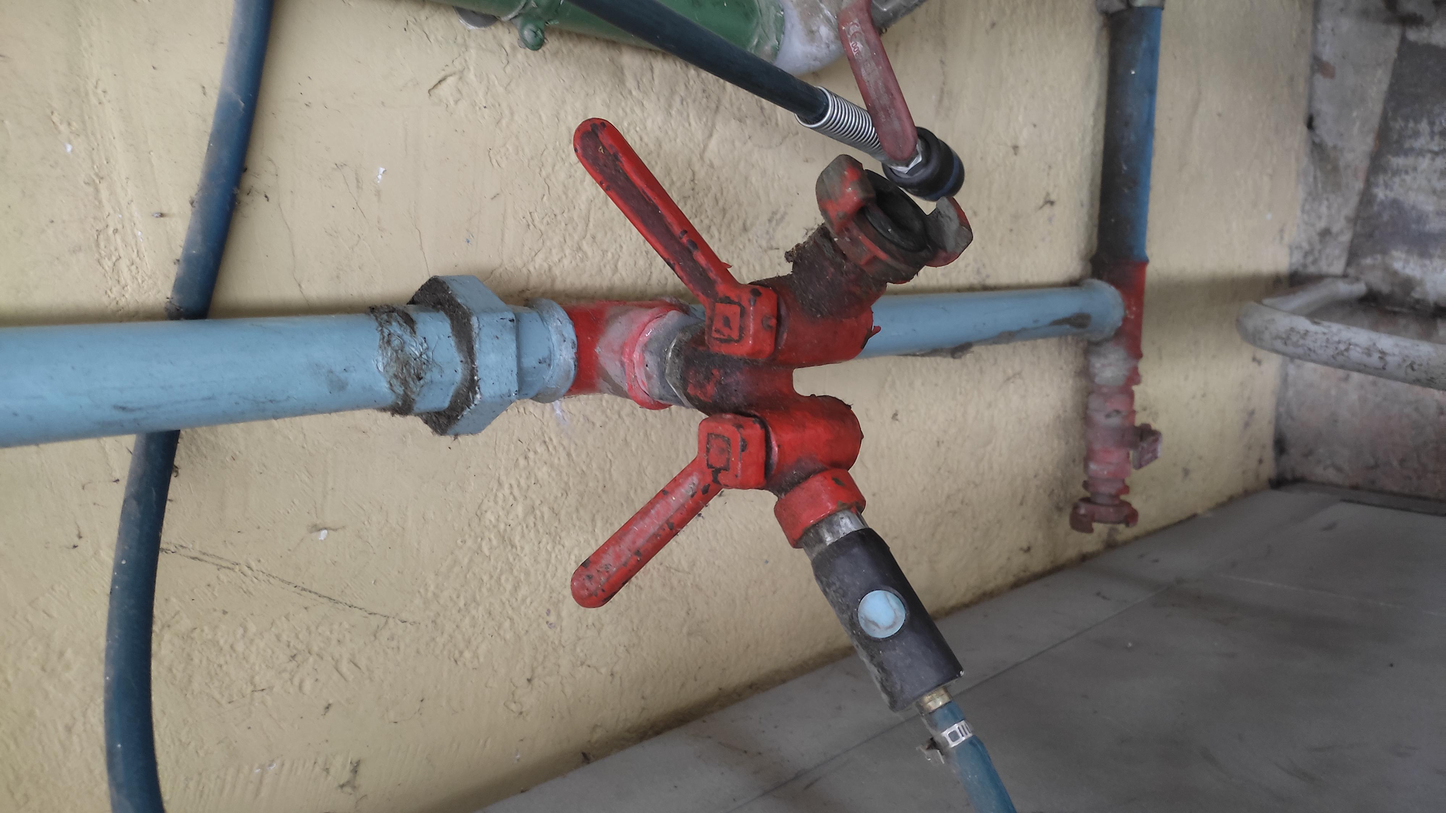closed valve: (519, 54, 927, 417), (535, 332, 892, 659)
